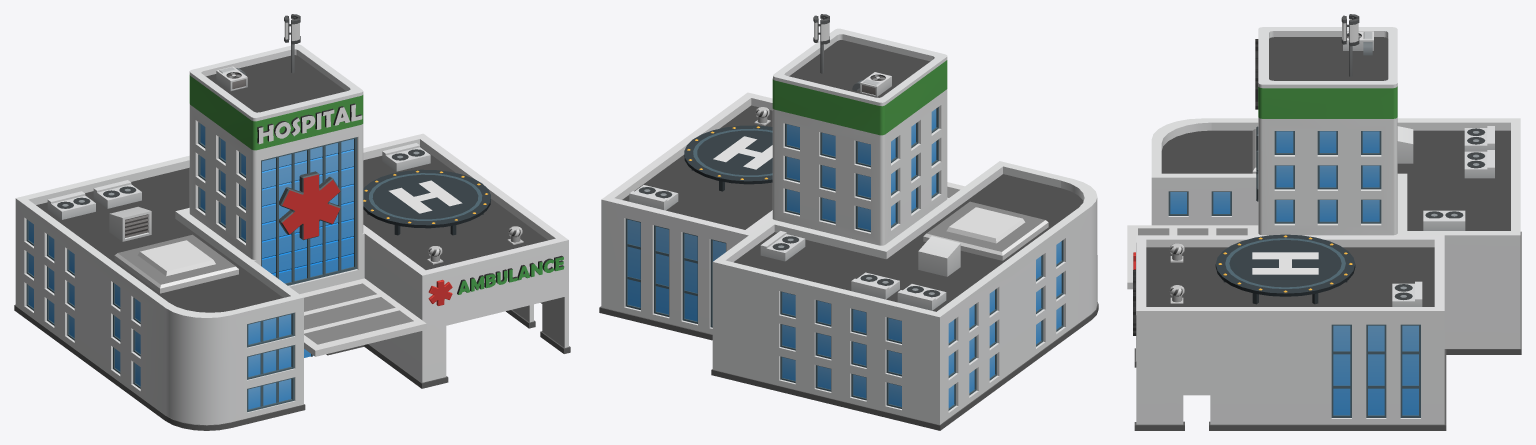
The model's file is hospital_001.glb.
3 views of the same model, side by side, from view 1: azimuth 30°, elevation 25°; view 2: azimuth 150°, elevation 25°; view 3: azimuth 270°, elevation 25° (orthographic). The views are drawn at different scales.
Visible parts, largest first — view 1: hospital_001; view 2: hospital_001; view 3: hospital_001.
Part boxes in pixels (x1,y1,x2,y2): hospital_001: [14, 14, 570, 430]; hospital_001: [599, 14, 1098, 430]; hospital_001: [1127, 14, 1521, 430].
Bounding box in the file's own units: 42.72 × 33.11 × 36.77.
Materials: 2 (2 with a texture image).
